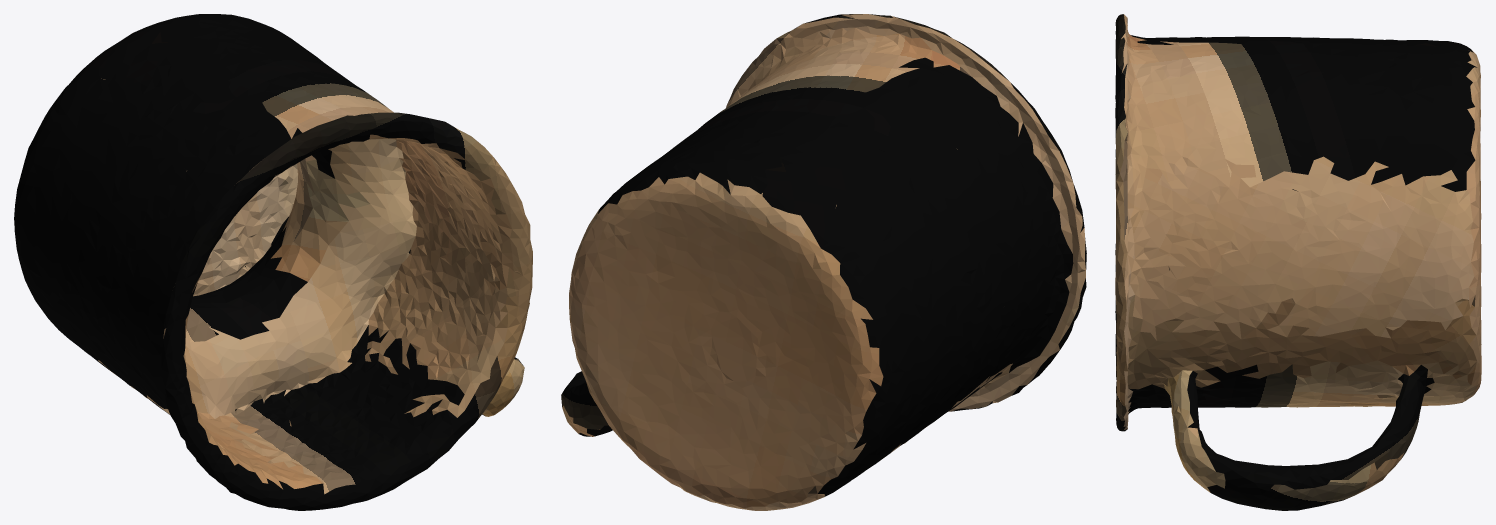
3 views of the same model, side by side, from view 1: azimuth 30°, elevation 25°; view 2: azimuth 150°, elevation 25°; view 3: azimuth 270°, elevation 25° (orthographic). The views are drawn at different scales.
Size of the model in its own units: 0.1051 by 0.0933 by 0.0813.
